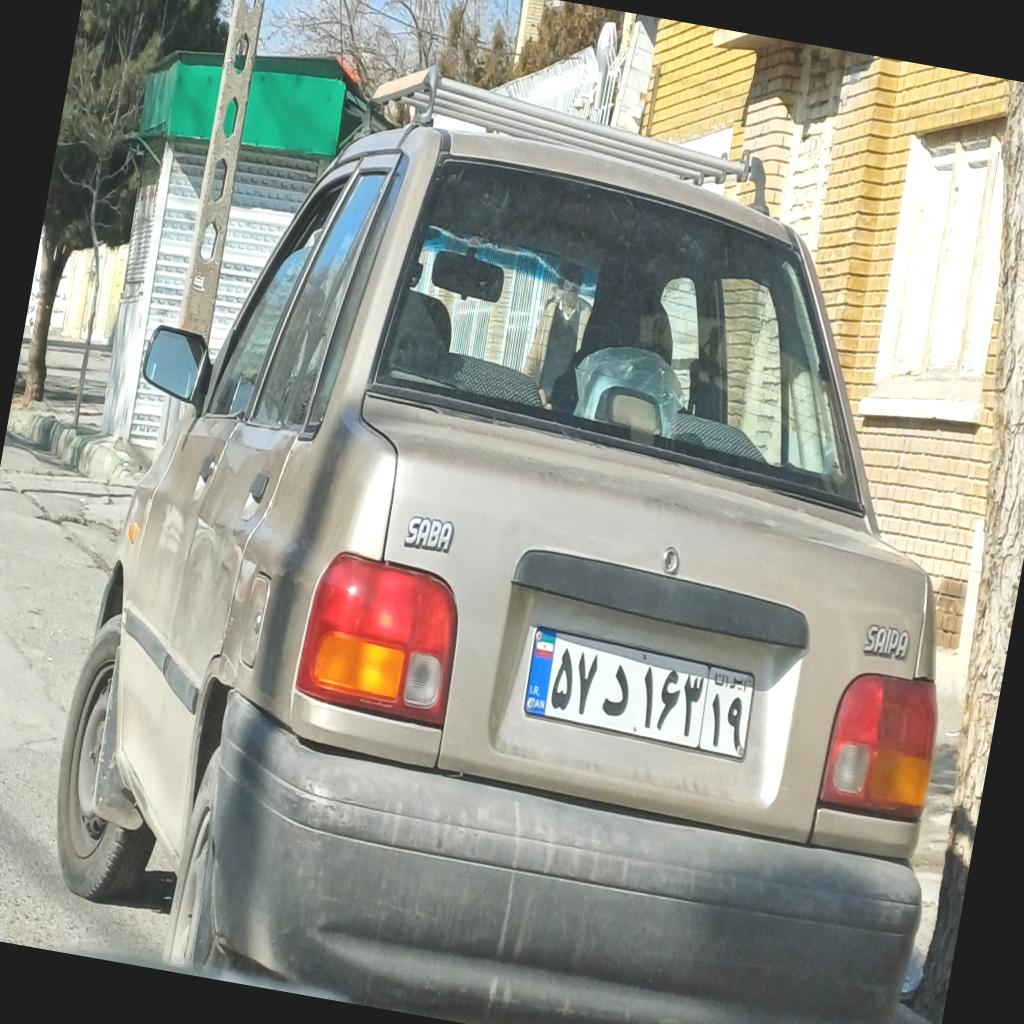Plates: (522, 624, 762, 760)
